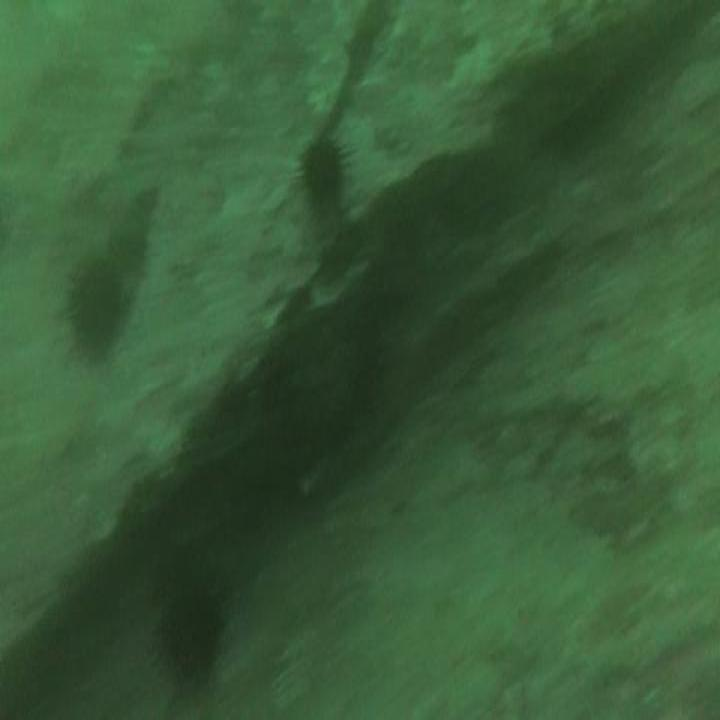echinus: (161, 590, 216, 681), (67, 261, 119, 354), (300, 137, 342, 203)
